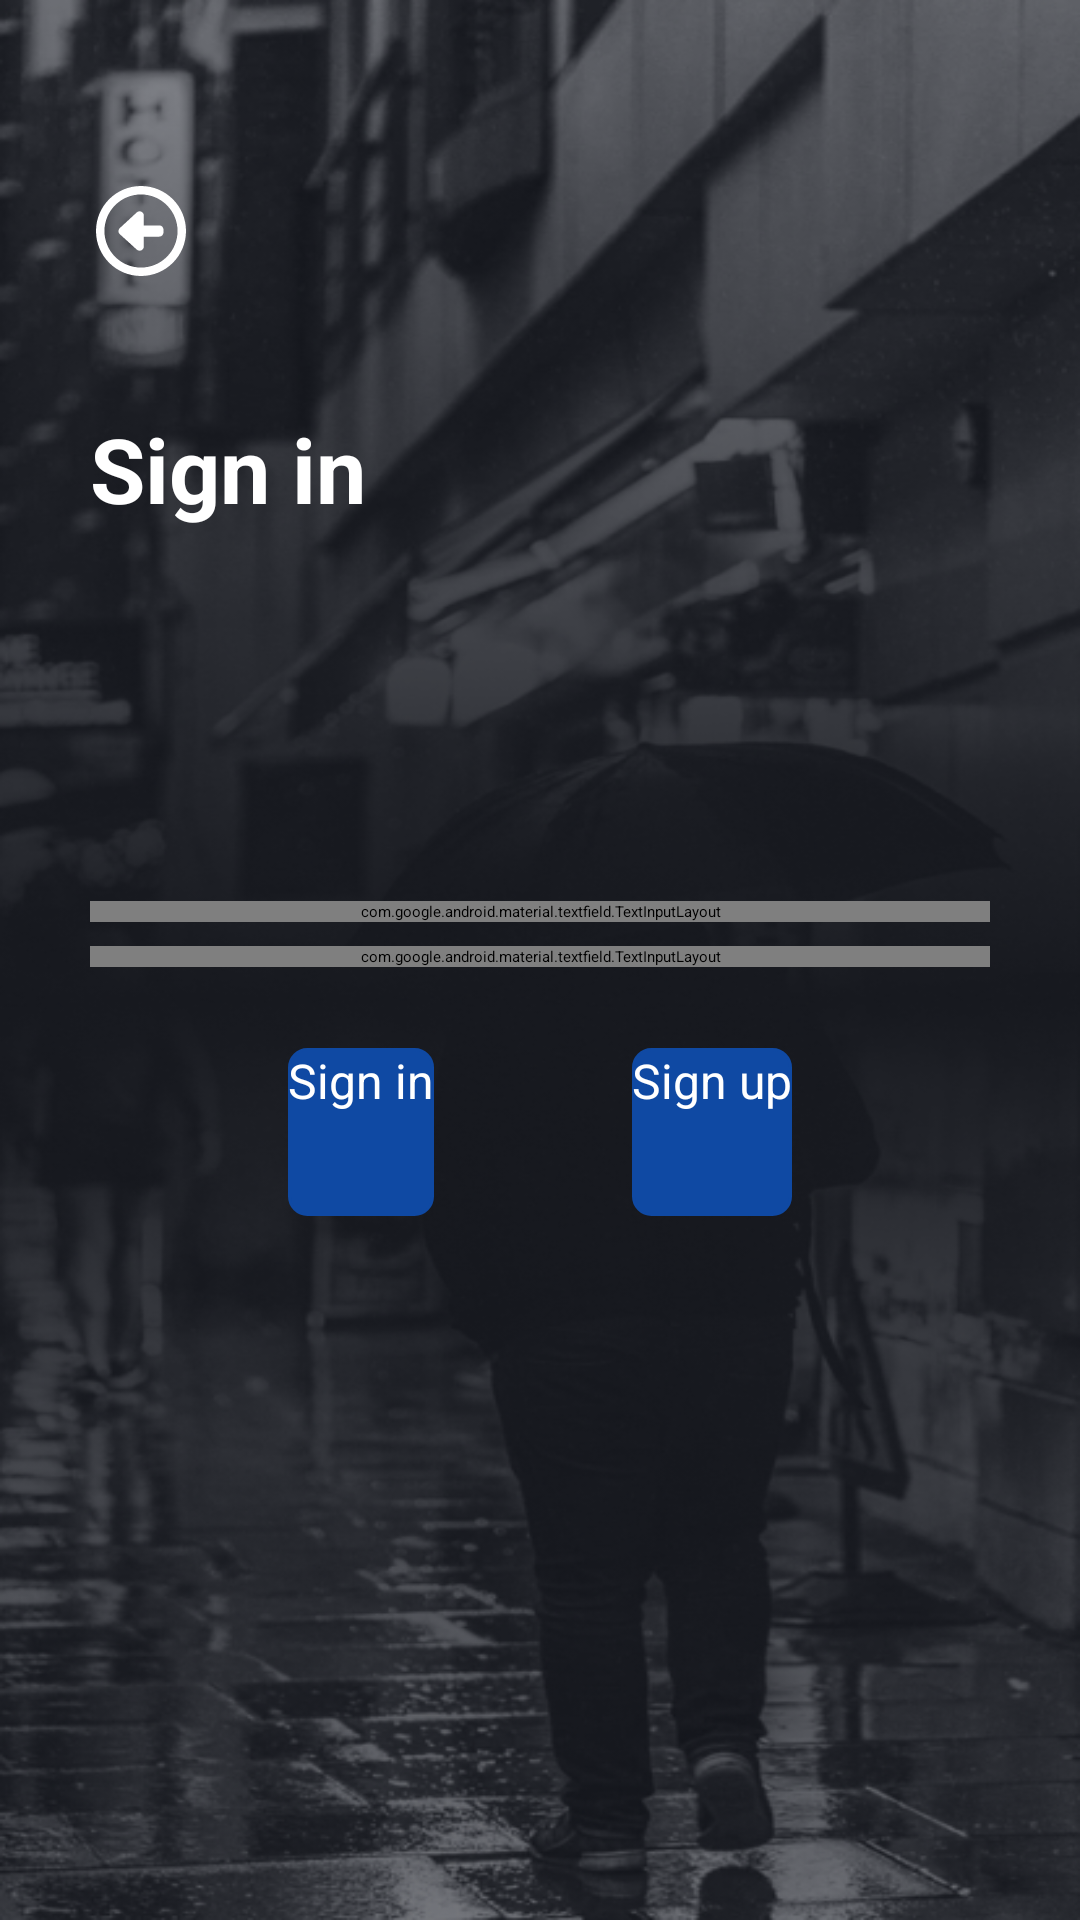

Where to tap for icons on this 1080px×1920px app screen, as (x=x, y=y):
back: (x=141, y=231)
